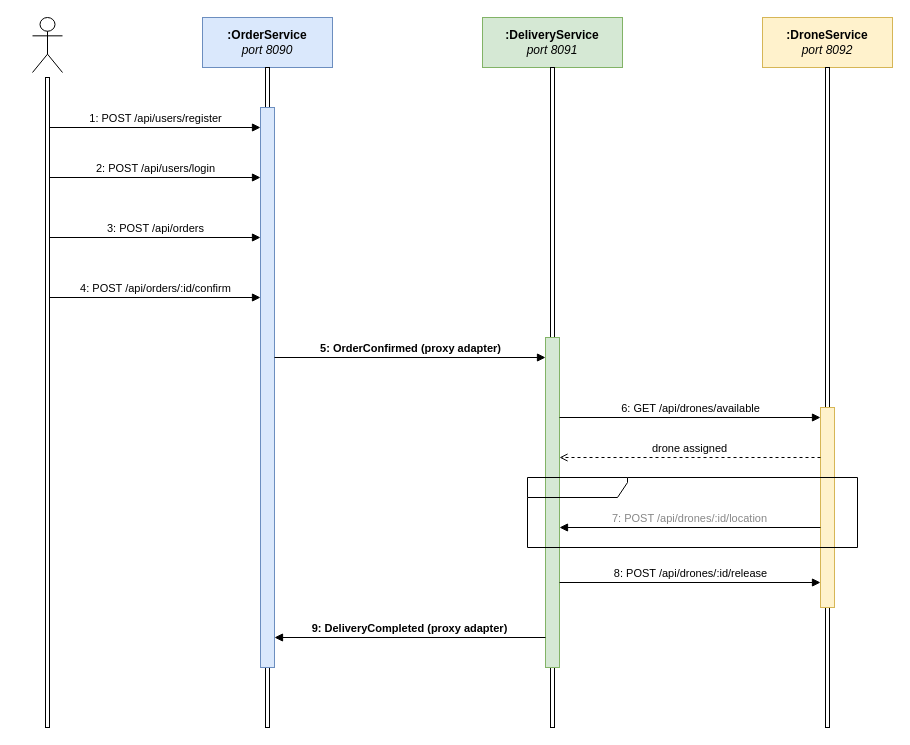
The diagram is 910 pixels wide and 745 high, and some of its shapes have lost their labels. Here are the shapes that lost their labels. From the top down, the box of each, then its label:
(32, 16, 62, 72): :Customer
(526, 476, 858, 548): loop [in transit]
